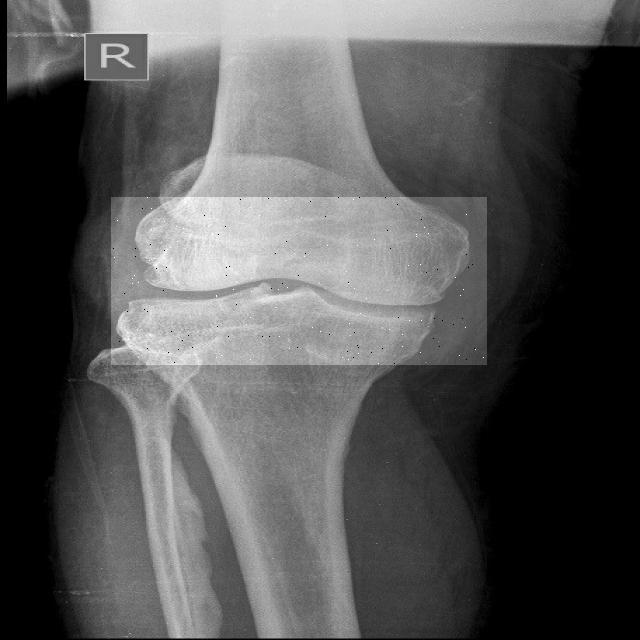osteo: (111, 197, 487, 365)
